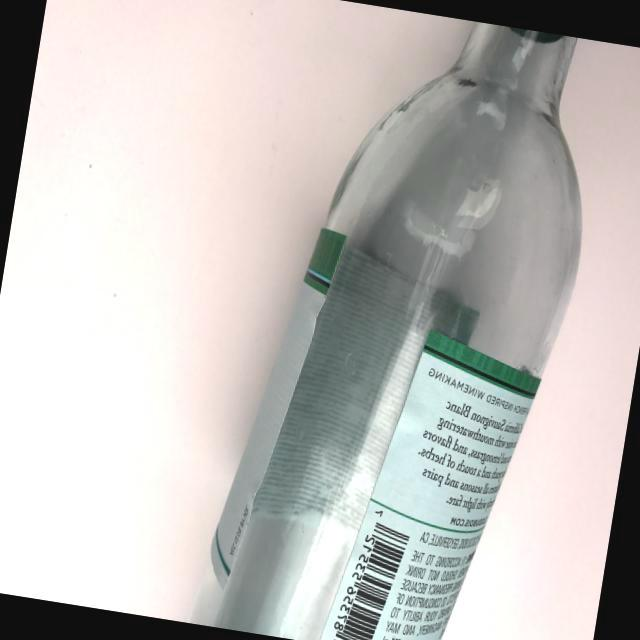glass: (174, 0, 626, 640)
